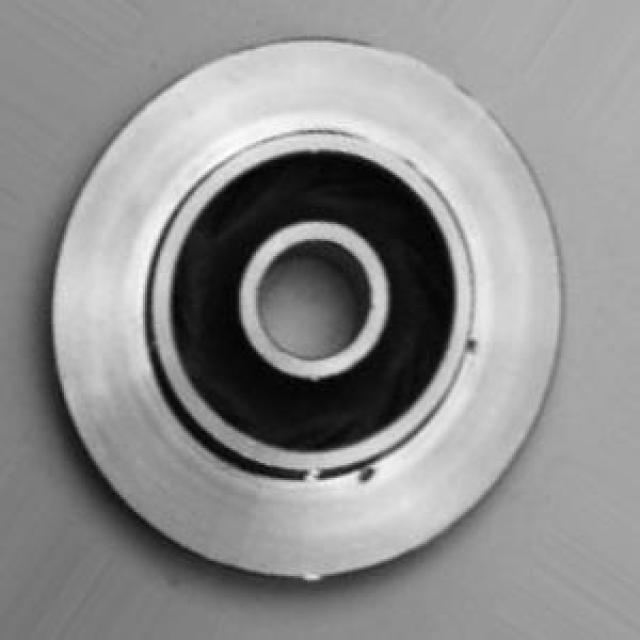Defect: (360, 466, 378, 487)
